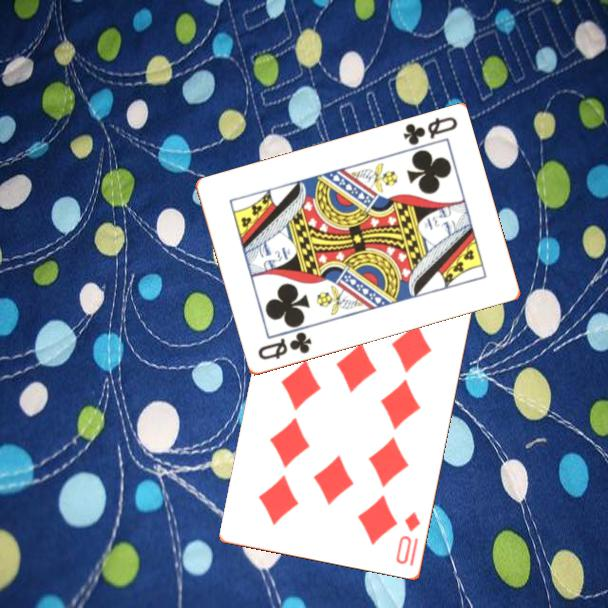c12: (399, 114, 460, 149), (254, 329, 314, 363)
d10: (392, 508, 424, 568)
